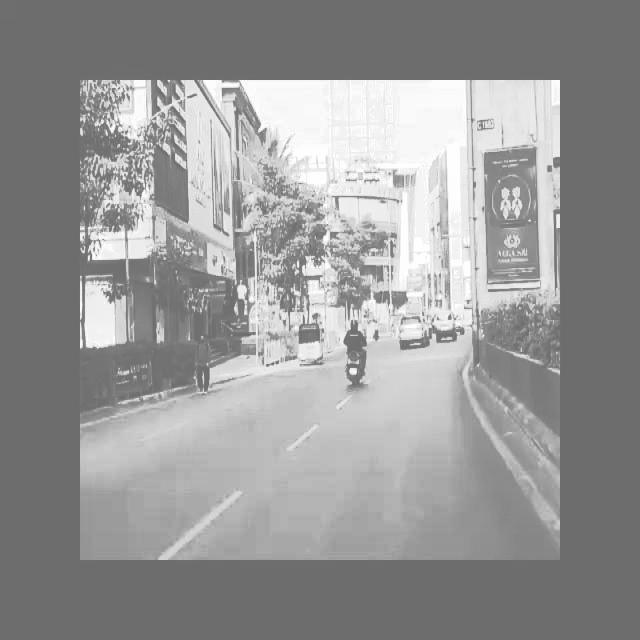Auto-Rickshaw: (285, 315, 333, 368)
Bike: (340, 317, 377, 390)
Car: (396, 305, 426, 355), (429, 304, 462, 346)
